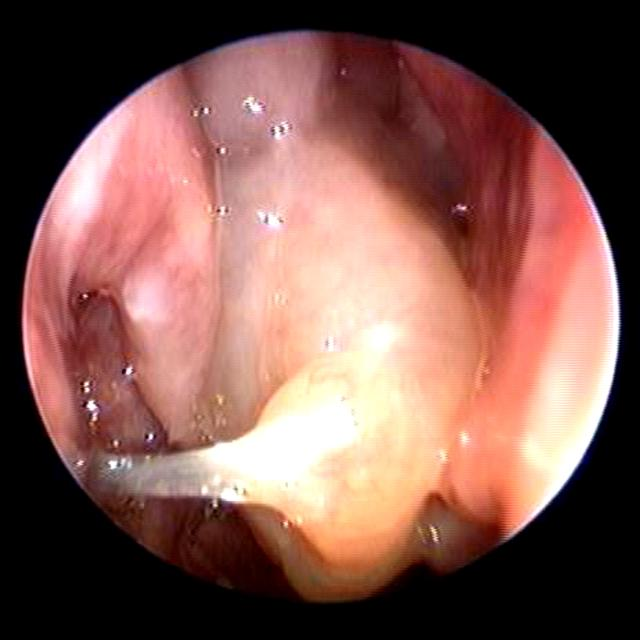OPENING: (67, 288, 190, 440)
POLYPS: (216, 101, 486, 569), (190, 33, 336, 158), (75, 446, 202, 504)
